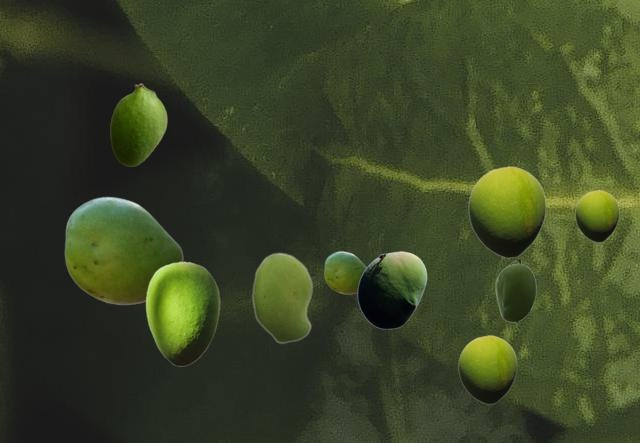green_mango: (64, 196, 182, 304), (145, 261, 219, 365), (468, 166, 545, 257), (252, 252, 312, 343), (357, 251, 426, 328), (110, 83, 166, 165), (458, 335, 516, 403), (495, 260, 535, 324), (575, 190, 618, 241), (324, 251, 366, 293)
